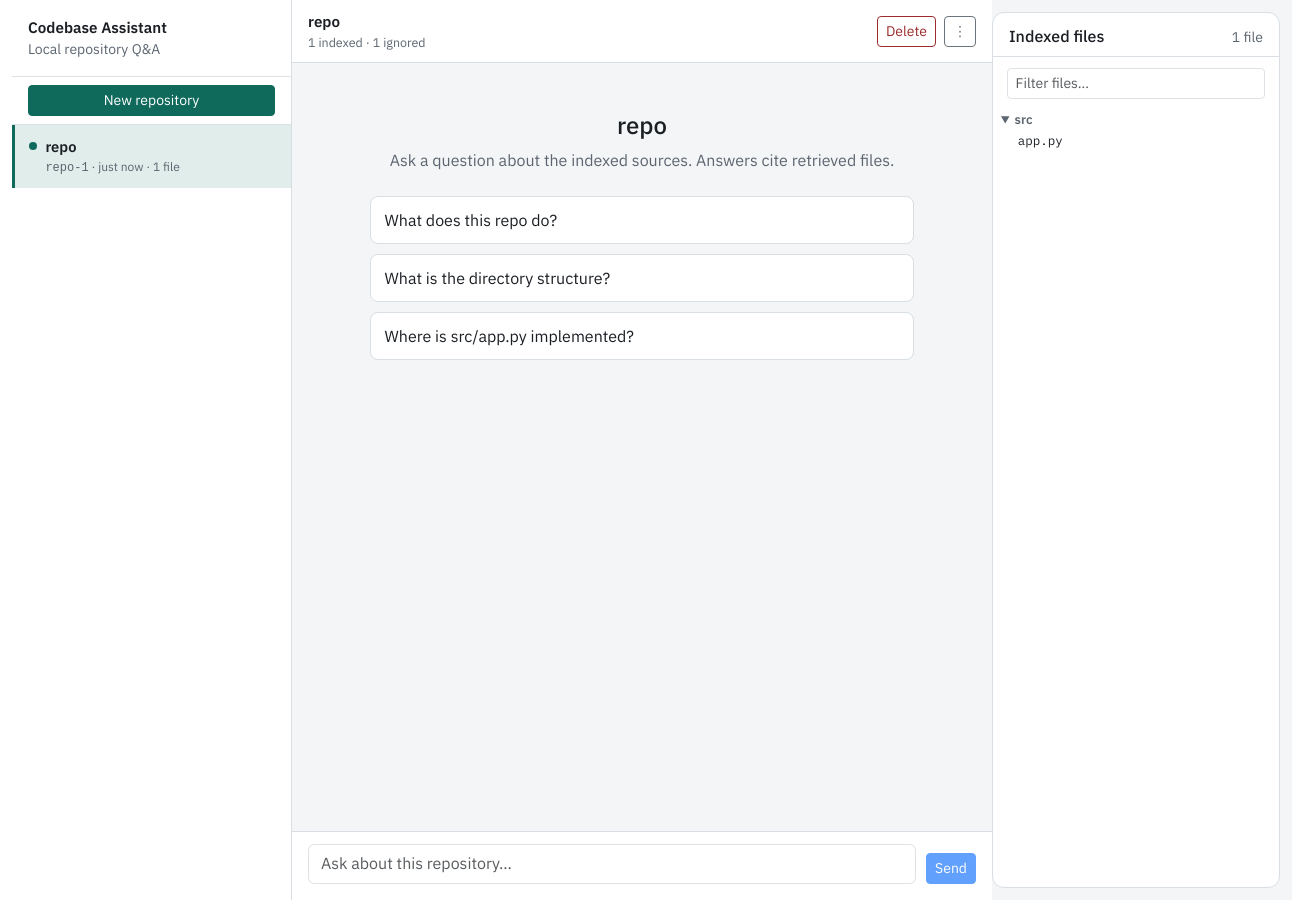
application shell › keeps chat history across questions for a repository
Check: the heading "repo" is shown, box top-left (617, 109), bottom-right (667, 141)
Type "First question?" into the text box named "Message". click: (612, 864)
box: top-left (308, 844), bottom-right (916, 884)
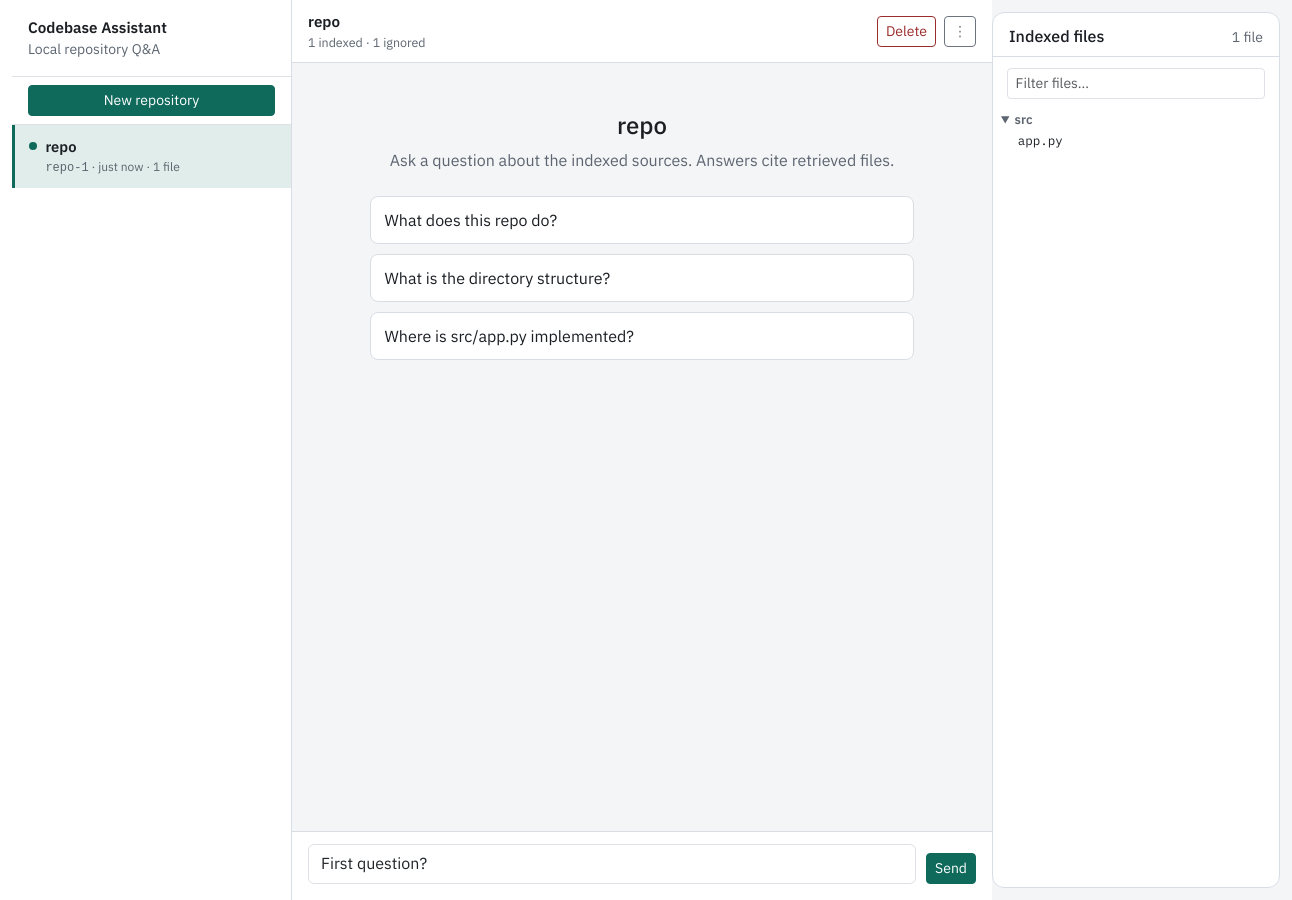
Click the button "Send". click: (951, 868)
box: top-left (926, 853), bottom-right (976, 884)
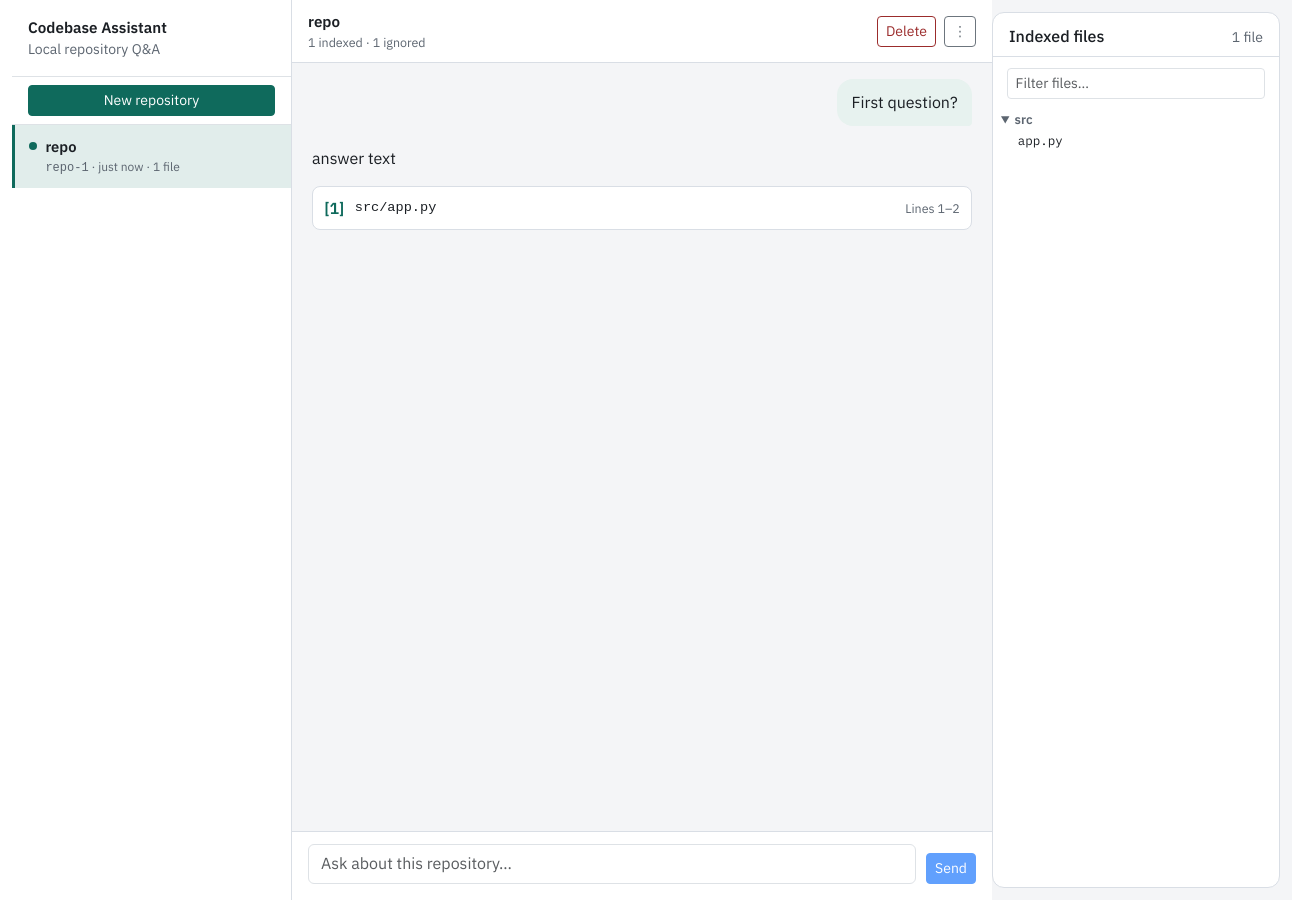
Check: the text "First question?" is shown, box top-left (837, 79), bottom-right (972, 126)
Check: the text "answer text" is shown, box top-left (312, 148), bottom-right (396, 168)
Type "Second question?" into the text box named "Message". click: (612, 864)
box: top-left (308, 844), bottom-right (916, 884)
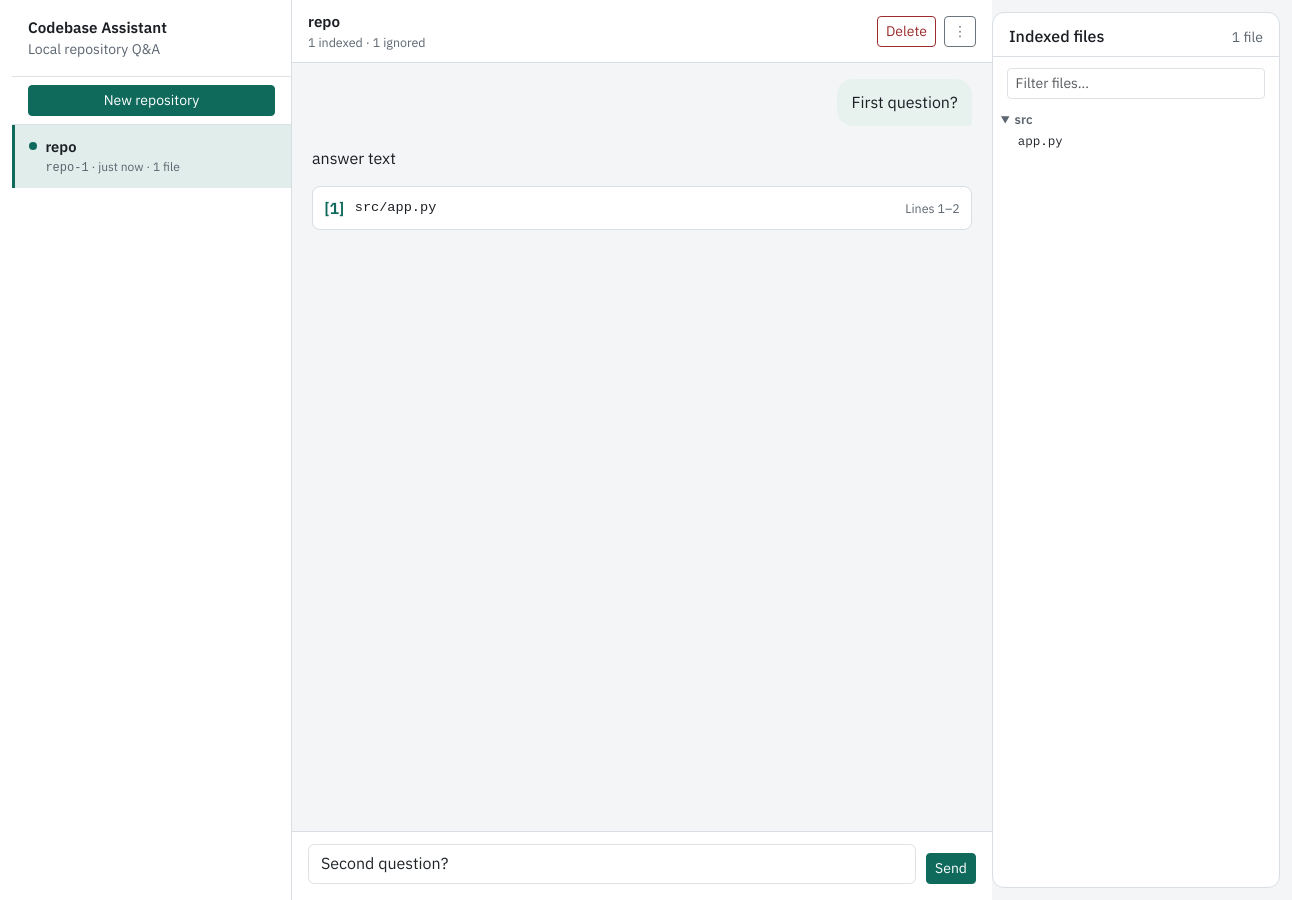
Click the button "Send". click: (951, 868)
box: top-left (926, 853), bottom-right (976, 884)
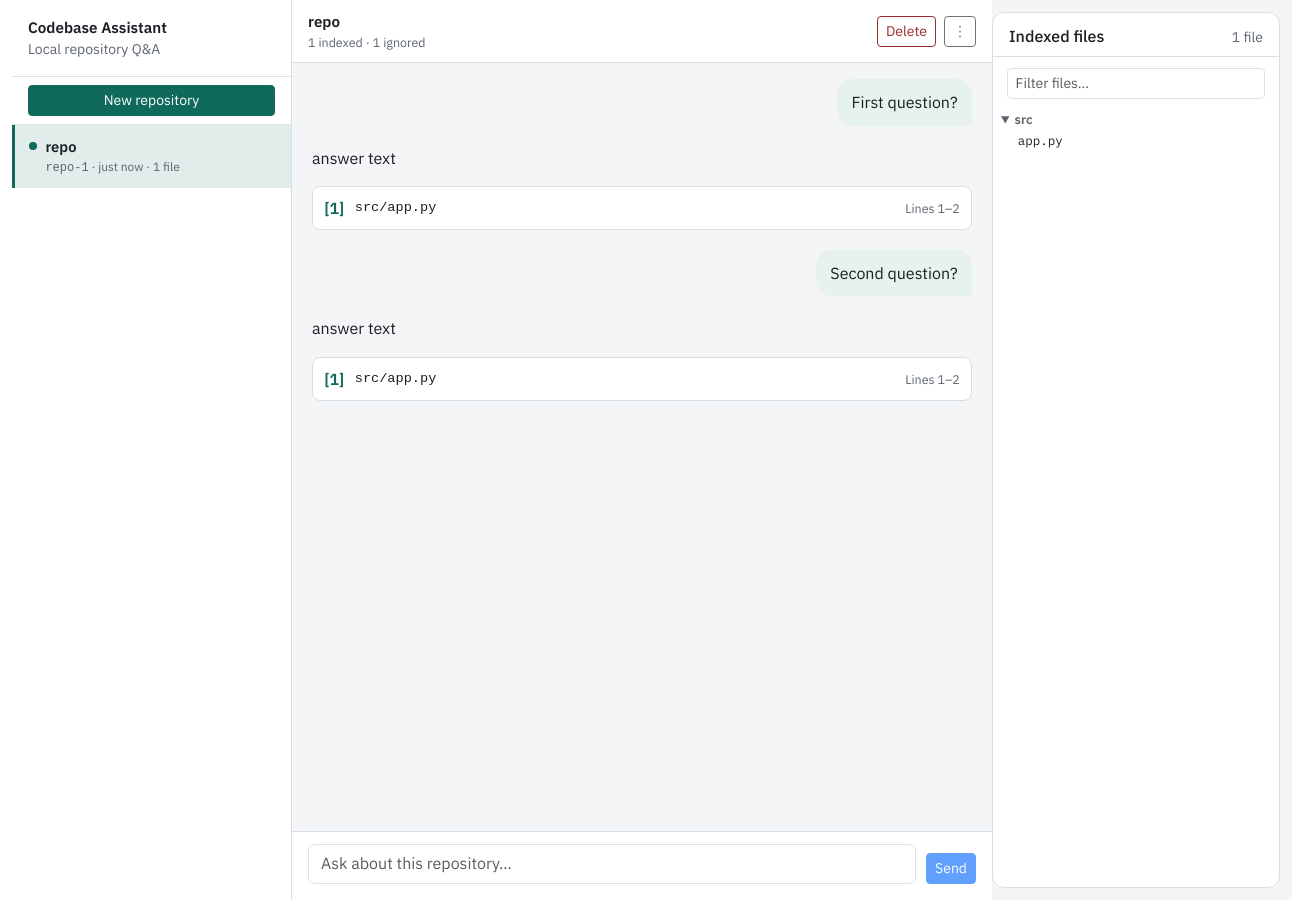
Check: the text "First question?" is shown, box top-left (837, 79), bottom-right (972, 126)
Check: the text "Second question?" is shown, box top-left (816, 250), bottom-right (972, 296)
